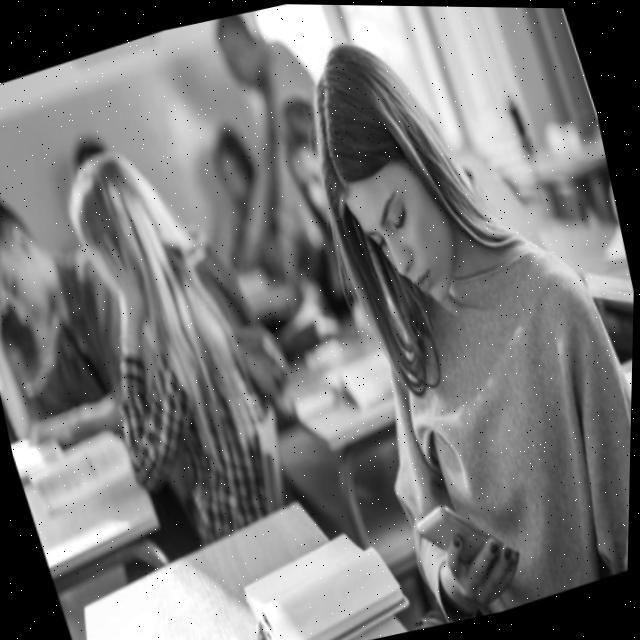phone: (410, 480, 528, 593)
